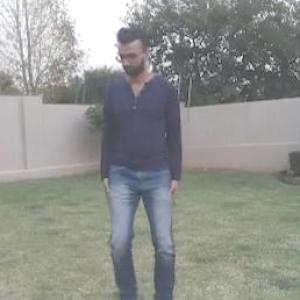follow: (95, 1, 185, 299)
